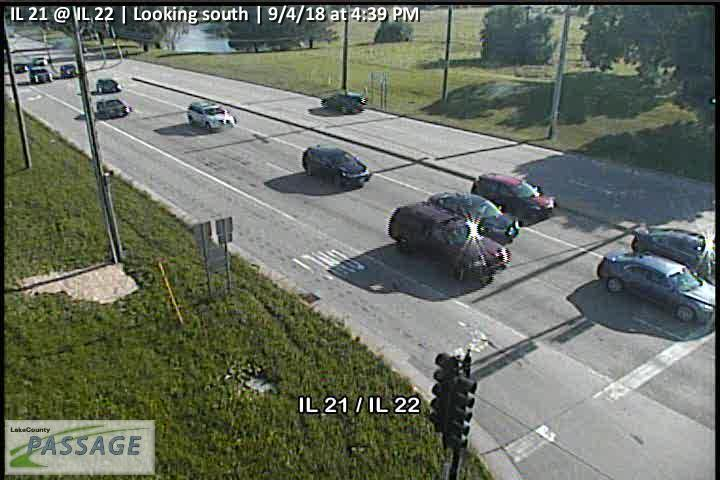SUV: (389, 202, 511, 277), (631, 224, 714, 280), (471, 172, 555, 218), (302, 144, 369, 188), (187, 99, 238, 132), (321, 91, 367, 115), (28, 66, 51, 84)
Sedan: (597, 249, 715, 326), (428, 190, 520, 247), (96, 98, 130, 120), (95, 77, 121, 94)
